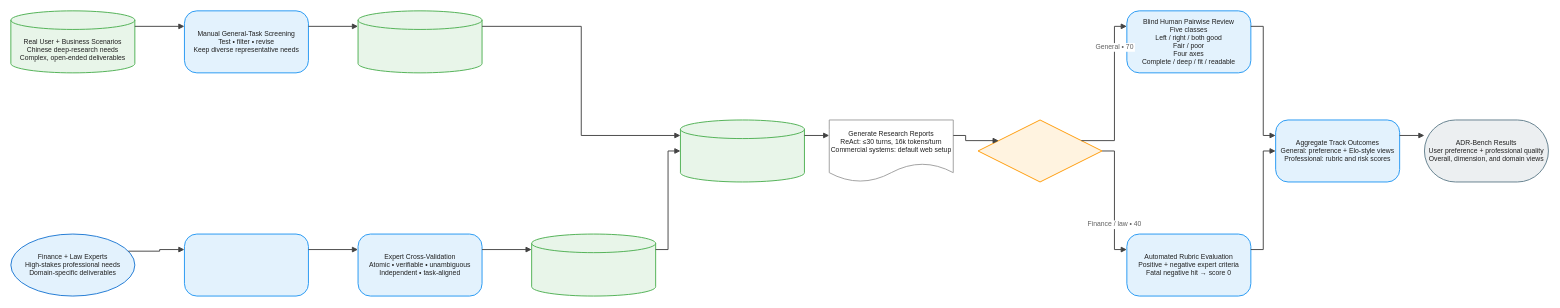
Image size: 1560x308. Some labels were removed from this diagram. Each missing label, with the box of its shape:
ADR-Bench 110 Chinese queries 70 general + 40 professional: (680, 119, 805, 182)
Co-Design Query + Rubric Experts enumerate positive and negative criteria: (184, 233, 309, 296)
Evaluation Track?: (977, 119, 1102, 182)
General Track 70 selected queries 7 domains × 10: (357, 10, 482, 73)
Professional Track Finance 20 + law 20 40 query-rubric packages: (531, 233, 656, 296)
